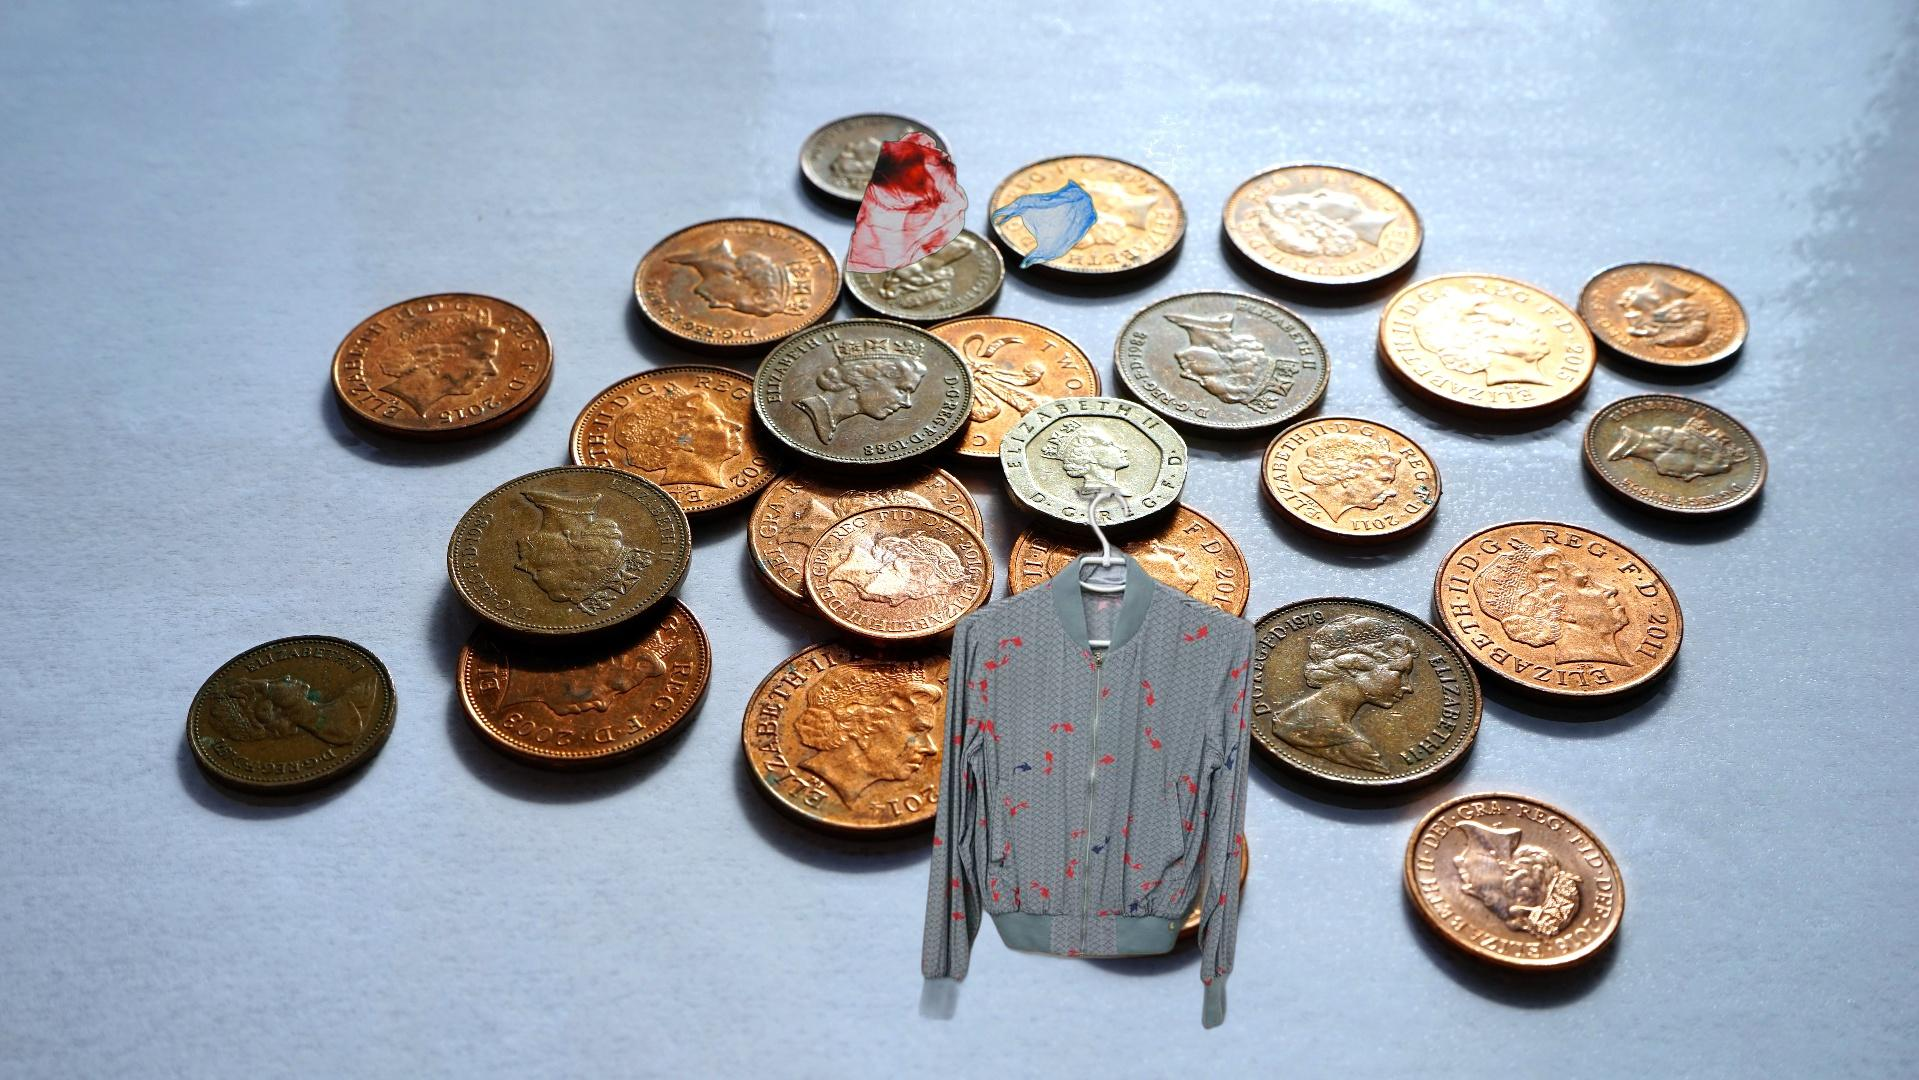clothes: (917, 487, 1259, 1035)
plastic-bag: (844, 128, 1101, 276)
